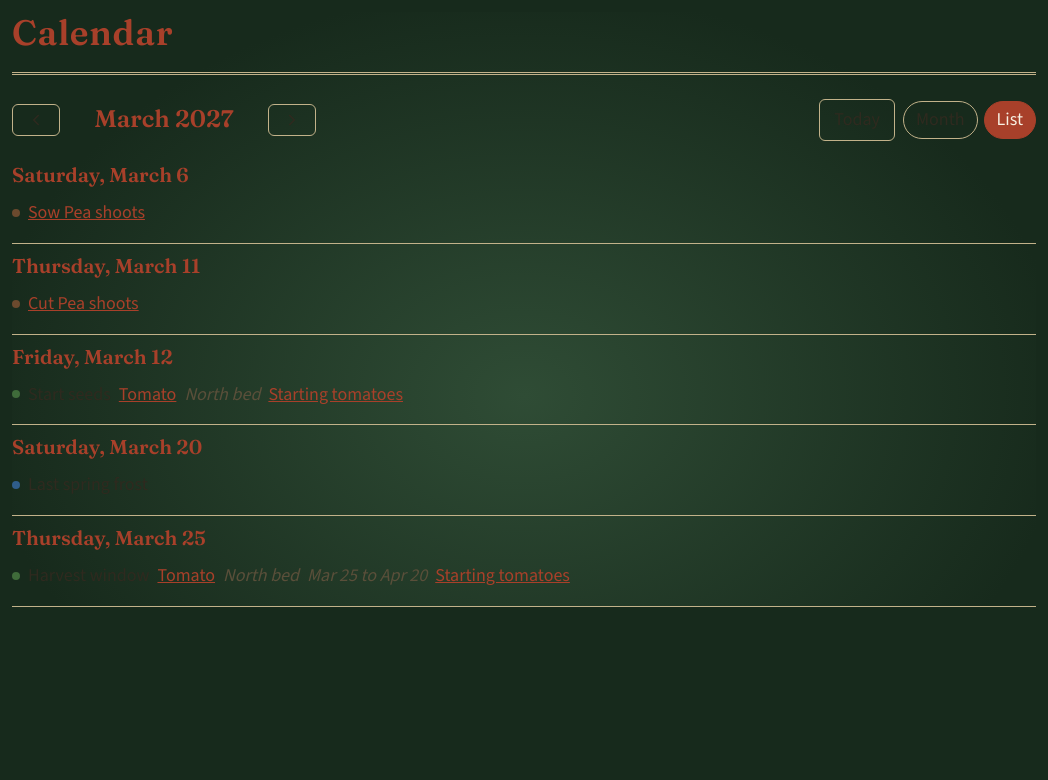
Scenario: calendar › next and previous month keep the view in the address
Expected: the heading "March 2027" is shown, [94,104,233,133]
Click the button named "Next month" at [292, 120], box [268,104,316,136]
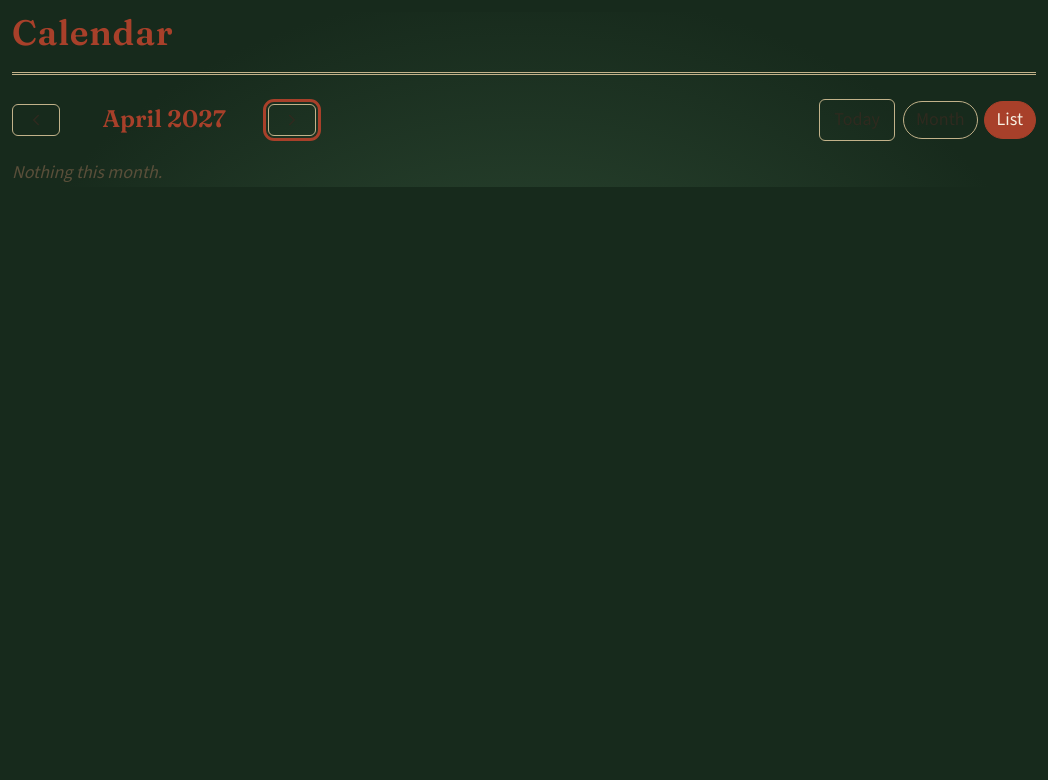
Expected: the heading "April 2027" is shown, [102,104,226,133]
